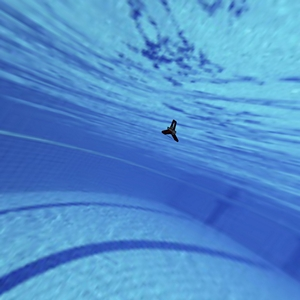submarine: (151, 107, 186, 150)
